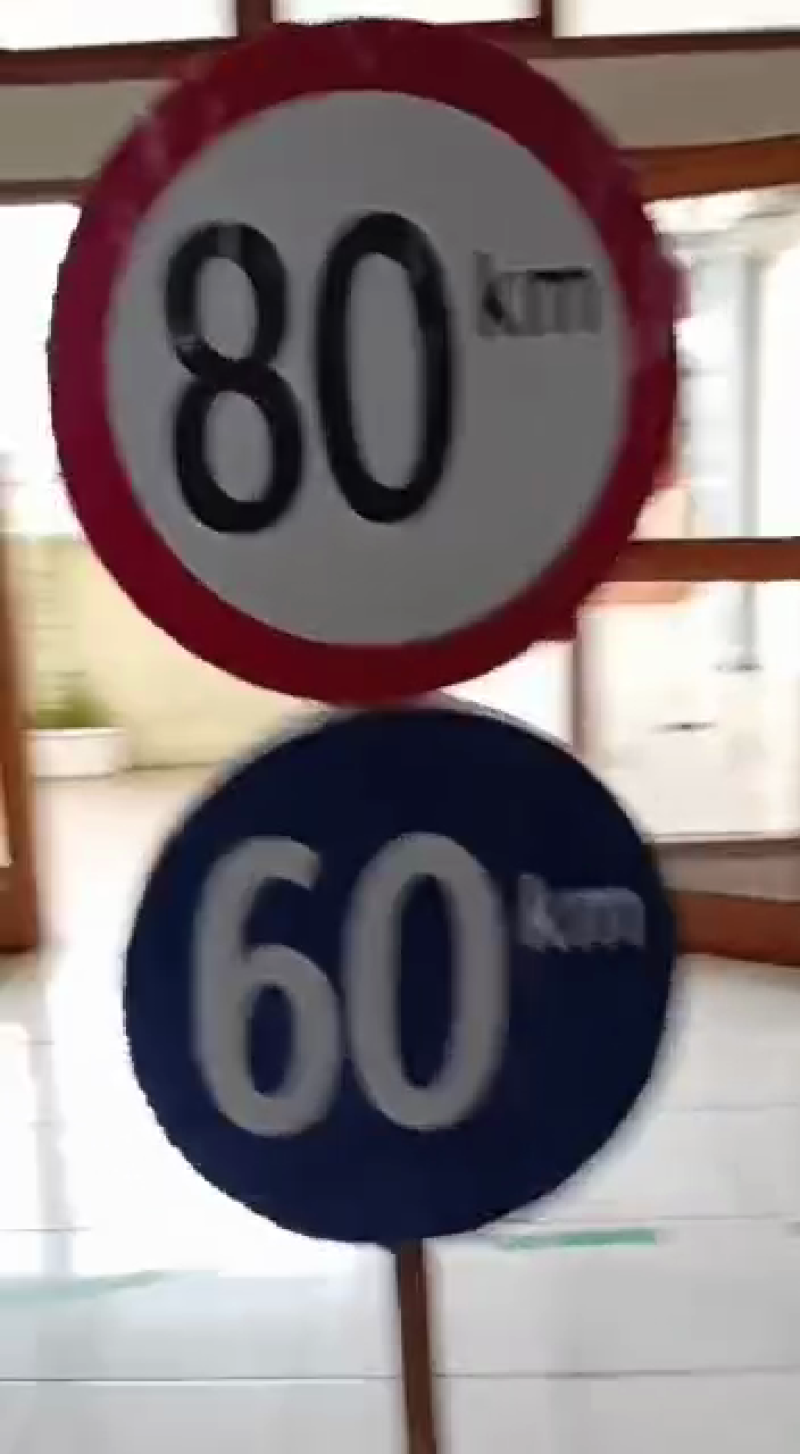batas maksimal 80kmperjam minimal 60kmperjam: (34, 1, 694, 1247)
